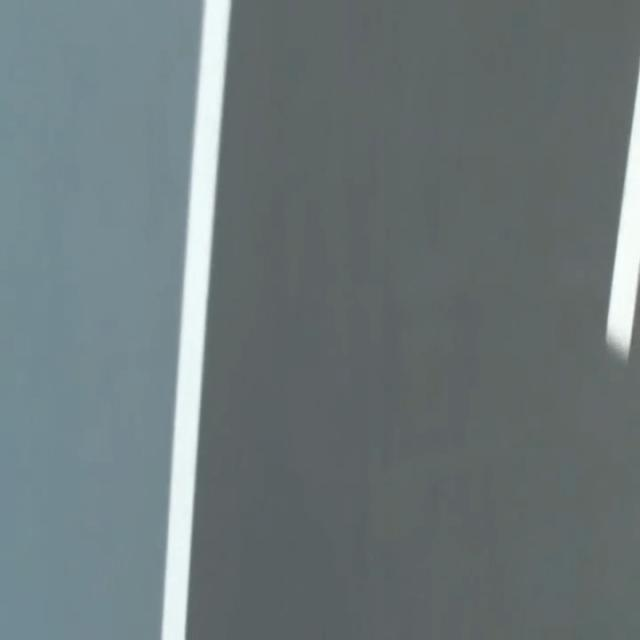center: (606, 63, 639, 358)
left: (160, 0, 231, 639)
